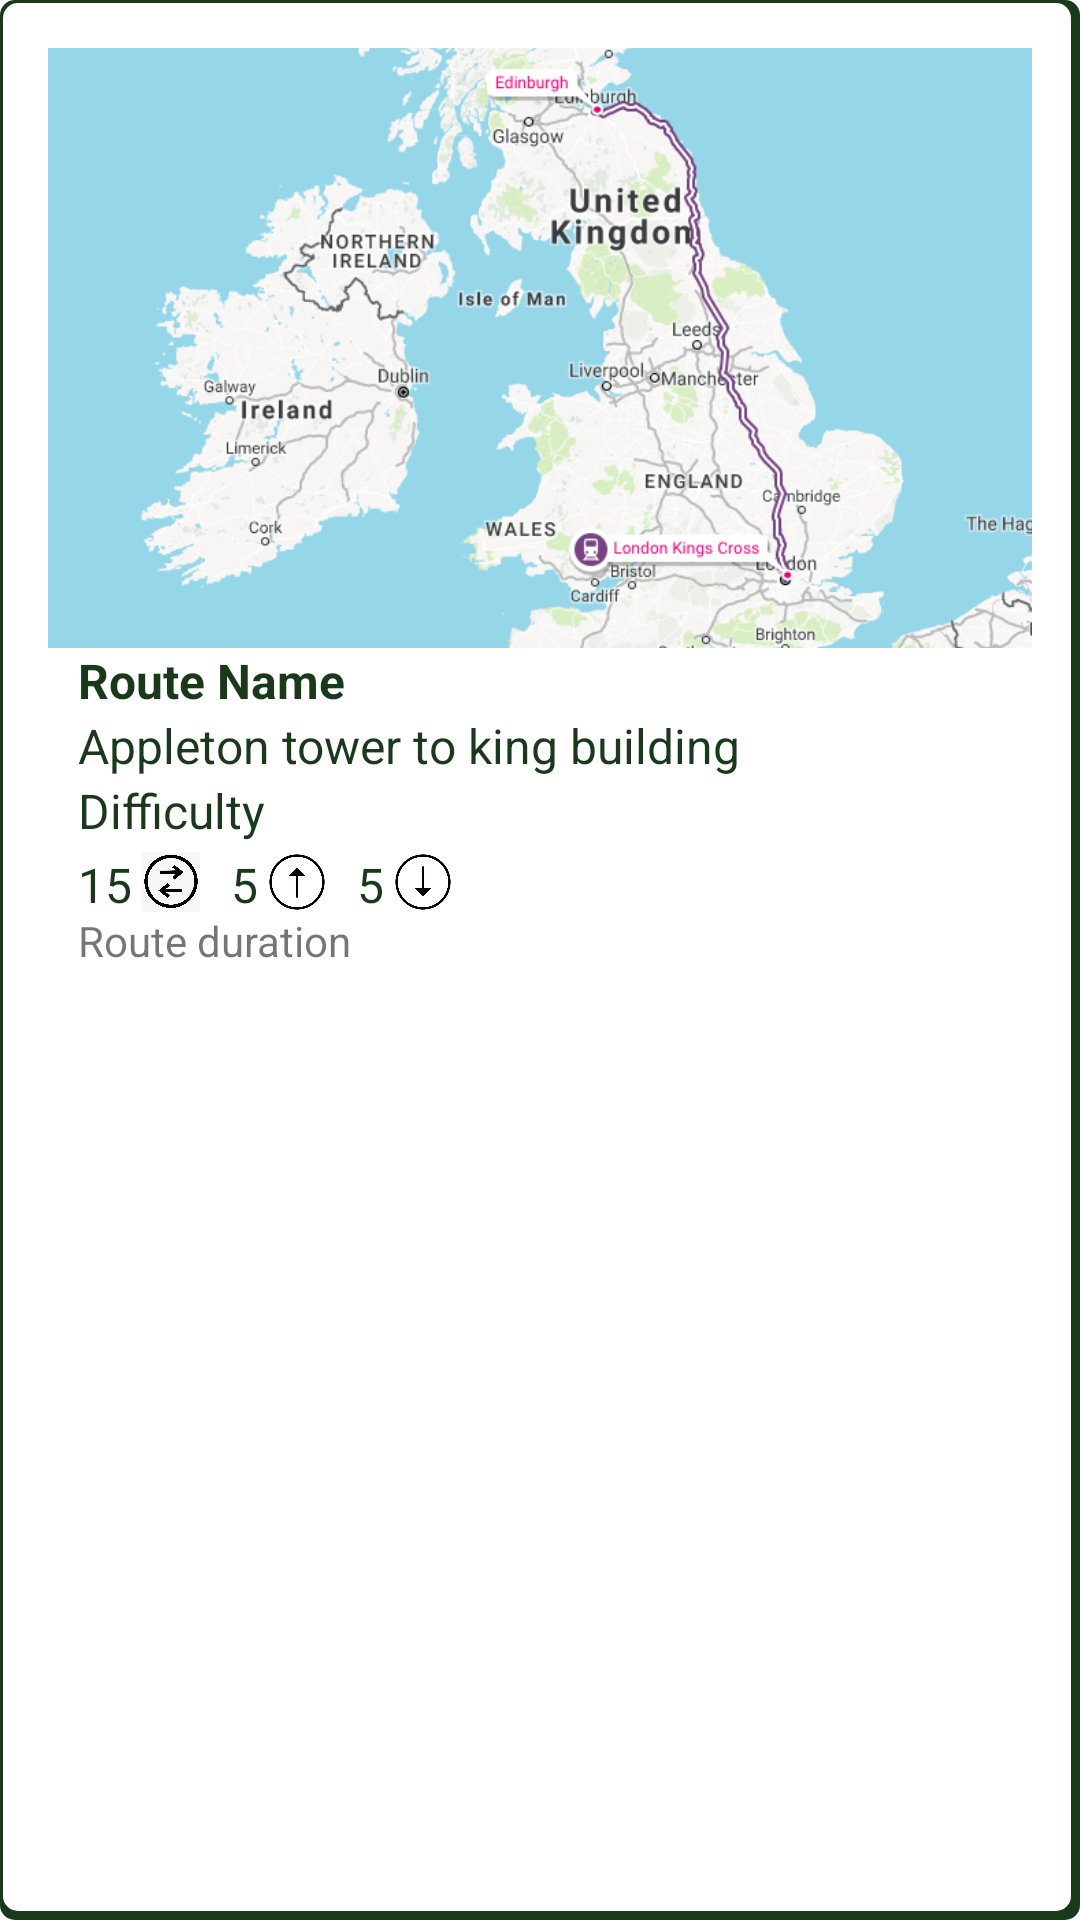

Point at icon controls on the screen. Image size 1080×1920, points as (x=x, y=y).
circle down: (x=423, y=882)
circle up: (x=297, y=882)
